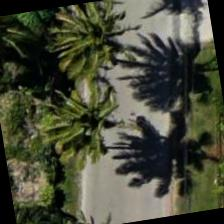Kelapa_Sawit: (23, 68, 126, 172), (32, 0, 135, 96)
